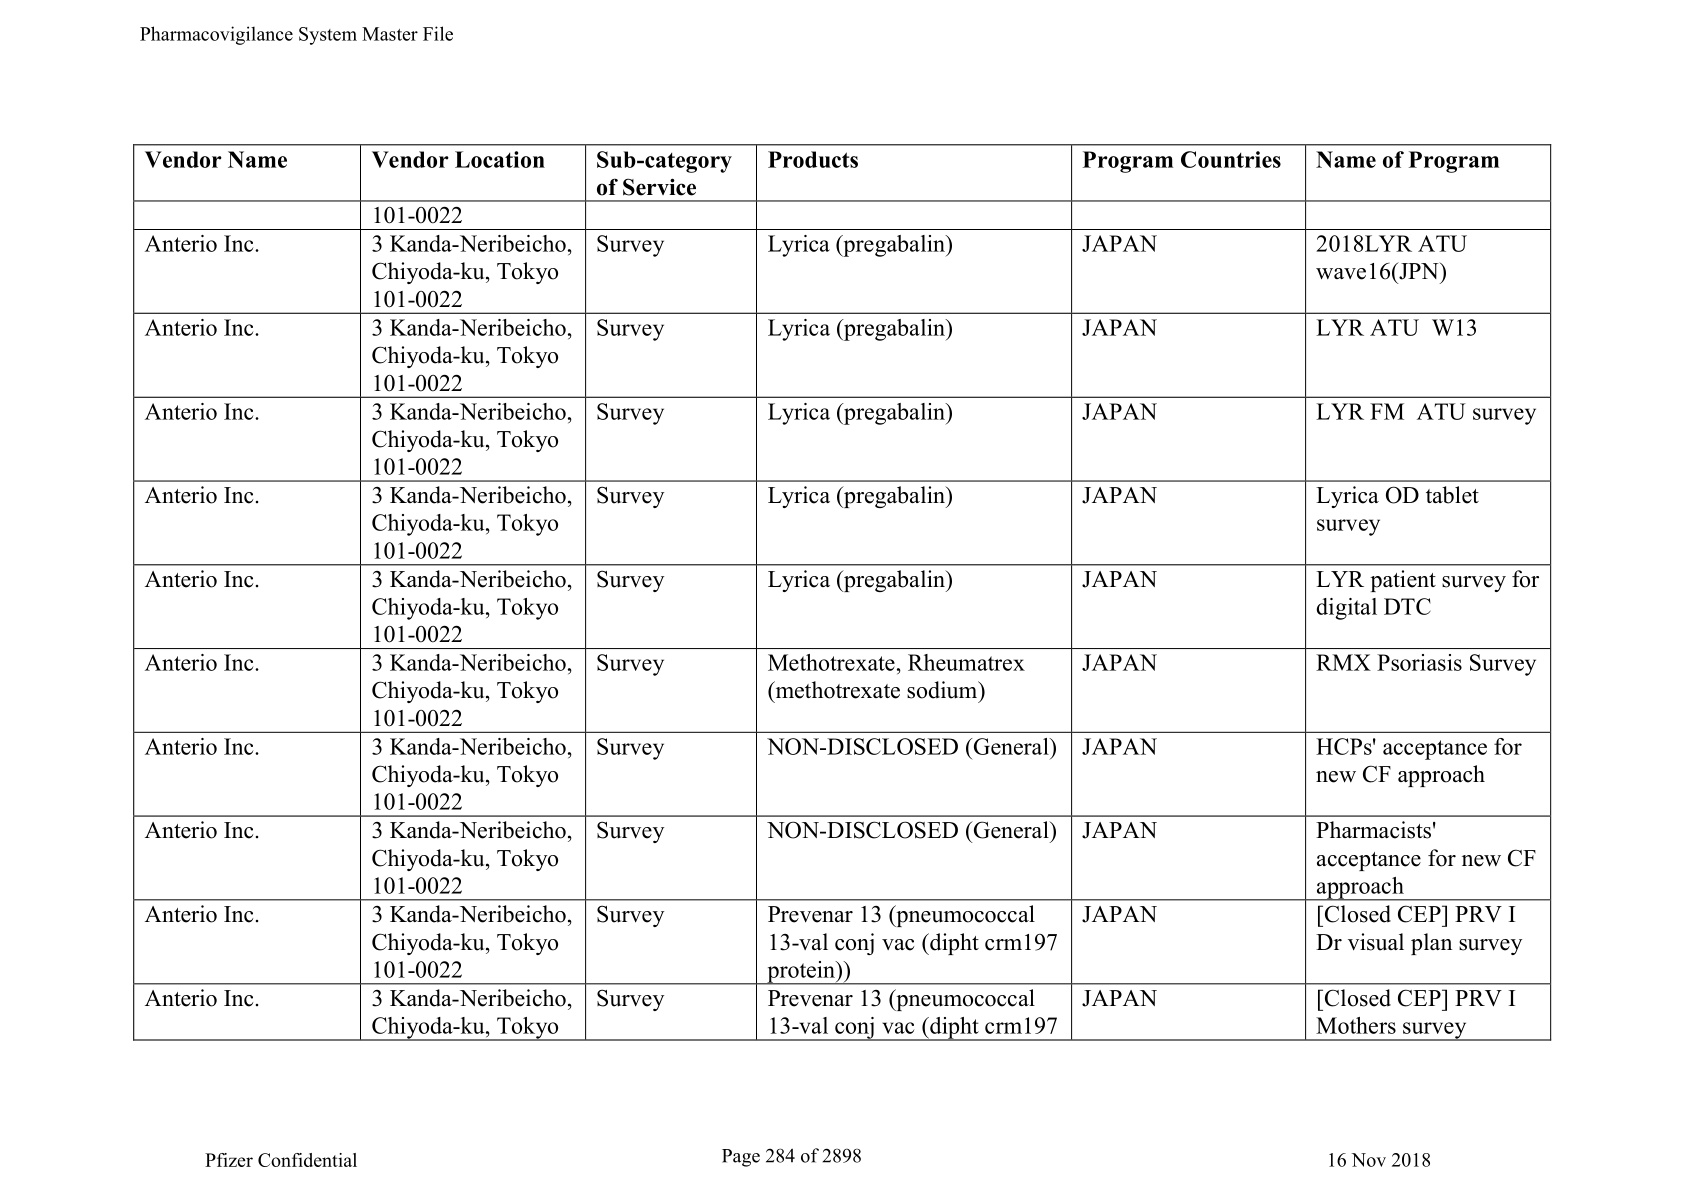full_lined: (131, 144, 1552, 1041)
